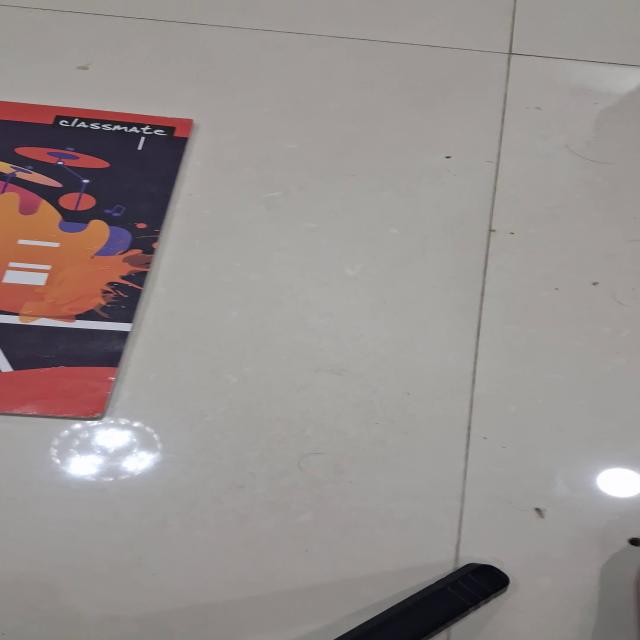paper: (1, 1, 638, 639)
